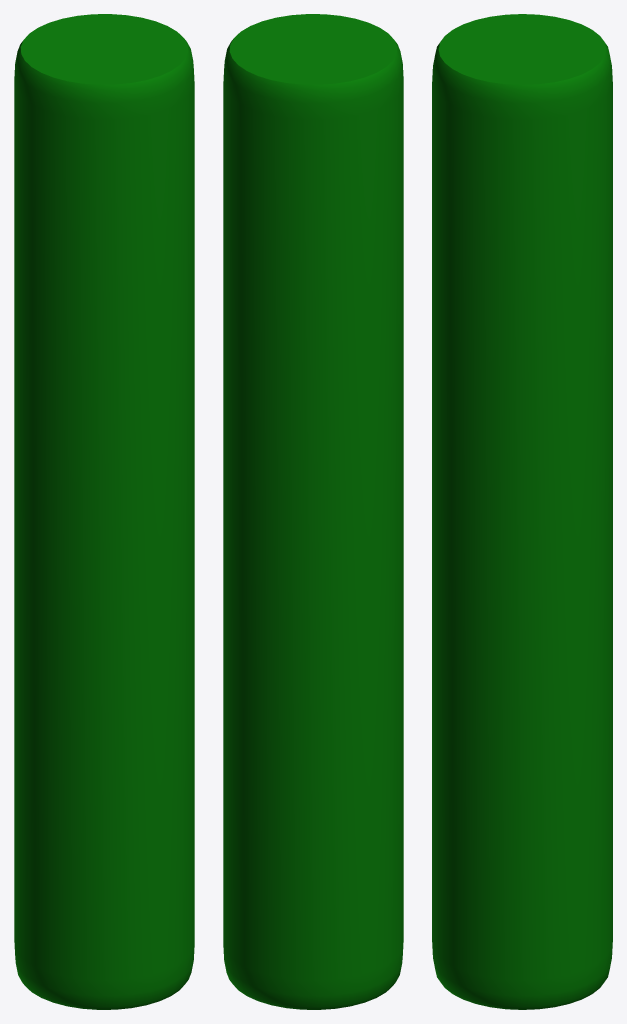
The model's file is uranium_rod.fbx.
The picture shows the model from 3 angles, left to right: view 1: azimuth 30°, elevation 25°; view 2: azimuth 150°, elevation 25°; view 3: azimuth 270°, elevation 25°; orthographic projection.
Parts seen in each view (by area): view 1: Cylinder; view 2: Cylinder; view 3: Cylinder.
Part boxes in pixels (x1,y1,x2,y2): Cylinder: (14,14,194,1009); Cylinder: (223,14,403,1009); Cylinder: (432,14,612,1009).
Size of the model in its own units: 200 by 1130 by 200.
